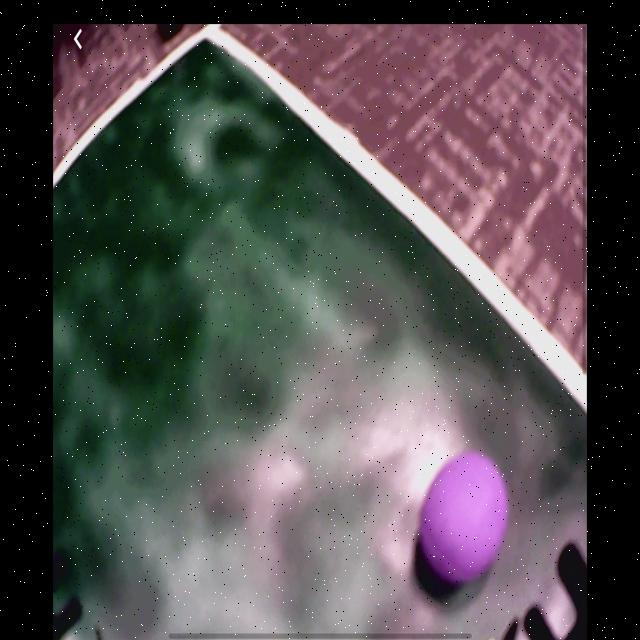ball: (420, 454, 510, 582)
